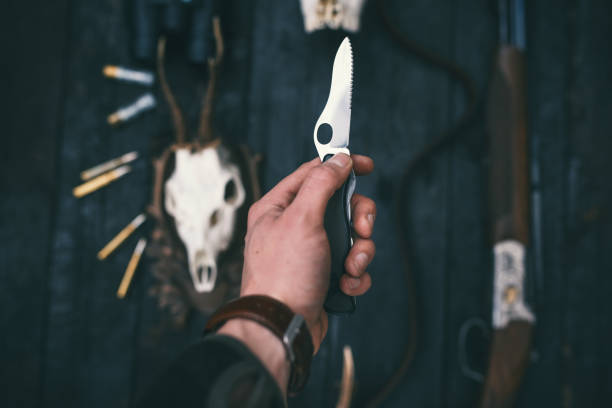cigarette: (96, 211, 148, 261), (71, 165, 132, 200), (115, 238, 148, 301), (79, 149, 139, 182), (106, 93, 156, 125), (100, 61, 157, 86)
gun: (453, 0, 553, 407)
knife: (310, 33, 359, 319)
